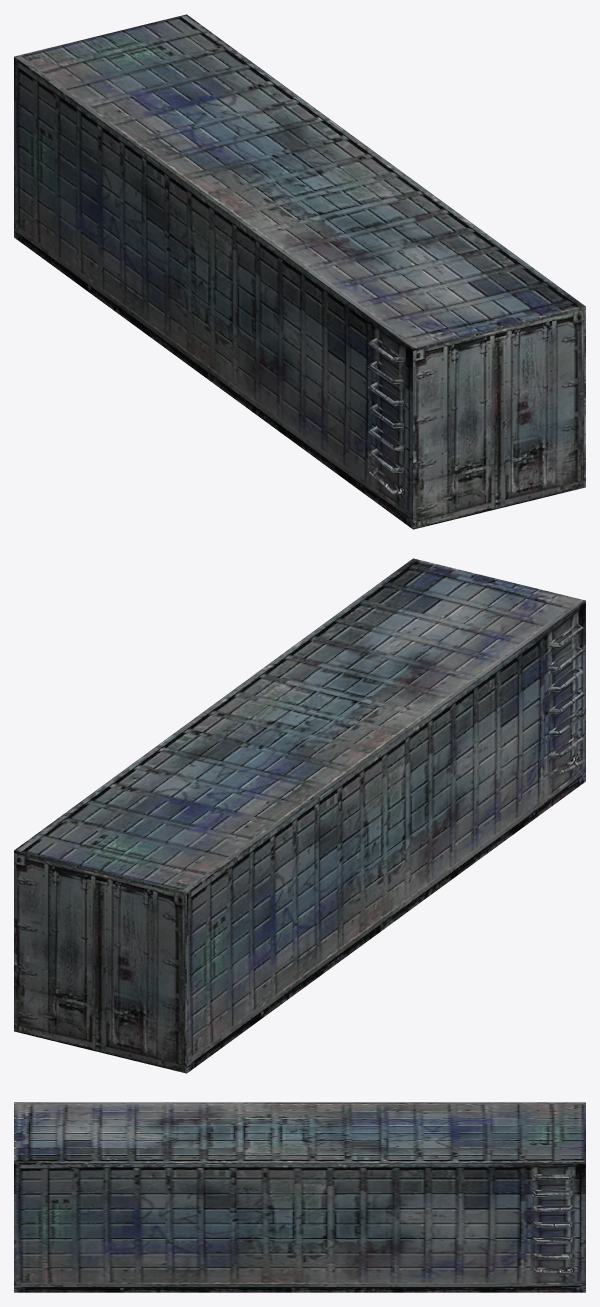
Rendered from cargo04.glb.
3 views of the same model, one above another, from view 1: azimuth 30°, elevation 25°; view 2: azimuth 150°, elevation 25°; view 3: azimuth 270°, elevation 25° (orthographic). The views are drawn at different scales.
Visible parts, largest first — view 1: _cargo04; view 2: _cargo04; view 3: _cargo04.
Part boxes in pixels (x1=…): _cargo04: x1=14, y1=14, x2=585, y2=529; _cargo04: x1=14, y1=558, x2=585, y2=1073; _cargo04: x1=14, y1=1102, x2=585, y2=1292.
Size of the model in its own units: 3.36 by 3 by 12.
Materials: 1 (1 with a texture image).
